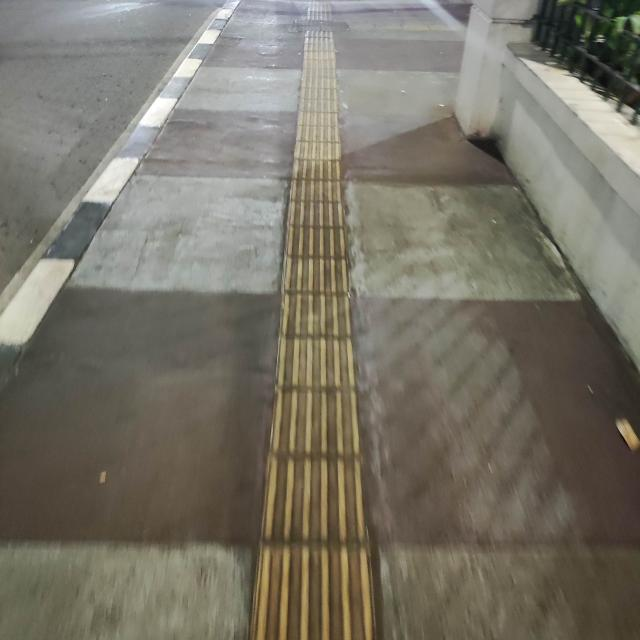lurus: (245, 41, 390, 640)
